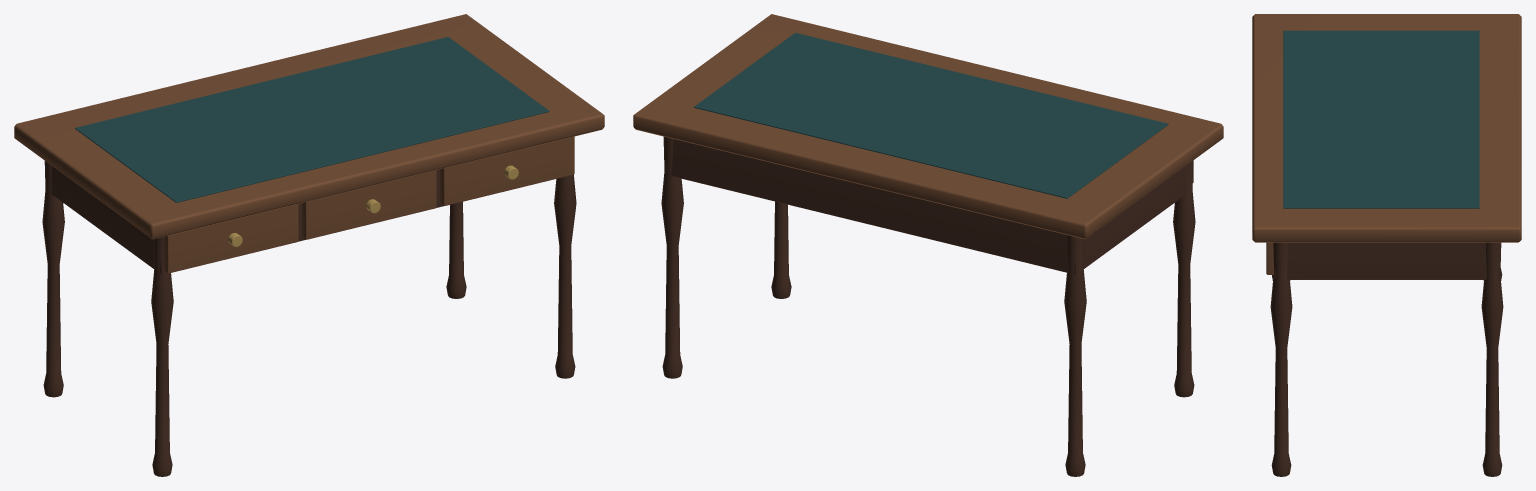
The model's file is rpg-mansion-desk-01.glb.
3 renders of one model, left to right at view 1: azimuth 30°, elevation 25°; view 2: azimuth 150°, elevation 25°; view 3: azimuth 270°, elevation 25°, orthographic. The views are drawn at different scales.
Parts seen in each view (by area): view 1: rpg-mansion-desk-01; view 2: rpg-mansion-desk-01; view 3: rpg-mansion-desk-01.
Part boxes in pixels (x1,y1,x2,y2): rpg-mansion-desk-01: (14,14,604,476); rpg-mansion-desk-01: (633,14,1223,476); rpg-mansion-desk-01: (1252,14,1521,476).
Size of the model in its own units: 1.4 by 0.786 by 0.74.
